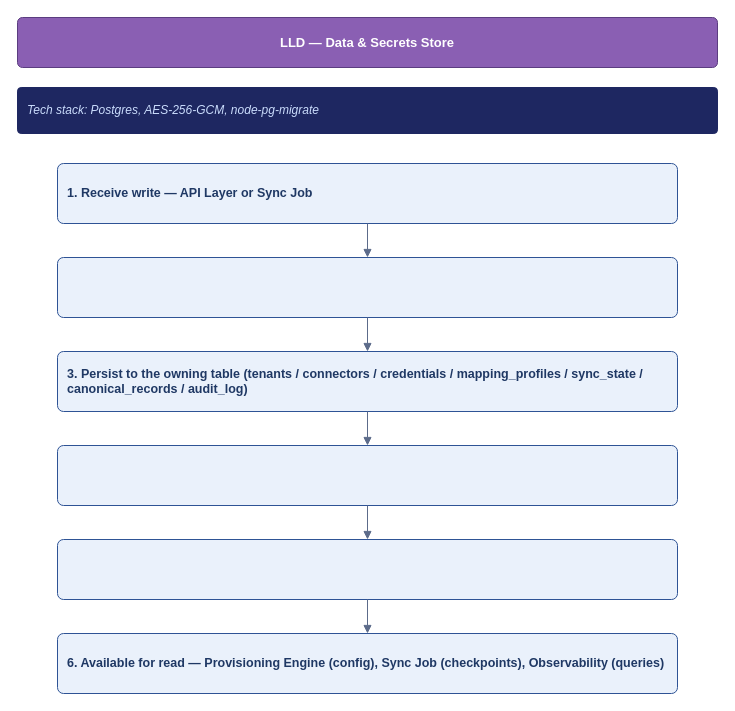
The diagram is 735 pixels wide and 711 high, and some of its shapes have lost their labels. The box of each missing label's shape, as (x1, y1, x2, y2) in pixels:
2. Encrypt sensitive fields (credentials) before persistence: (56, 256, 678, 318)
4. Upsert canonical records by (tenant_id, entity, external_id): (56, 444, 678, 506)
5. Append audit_log entry per change: (56, 538, 678, 600)
